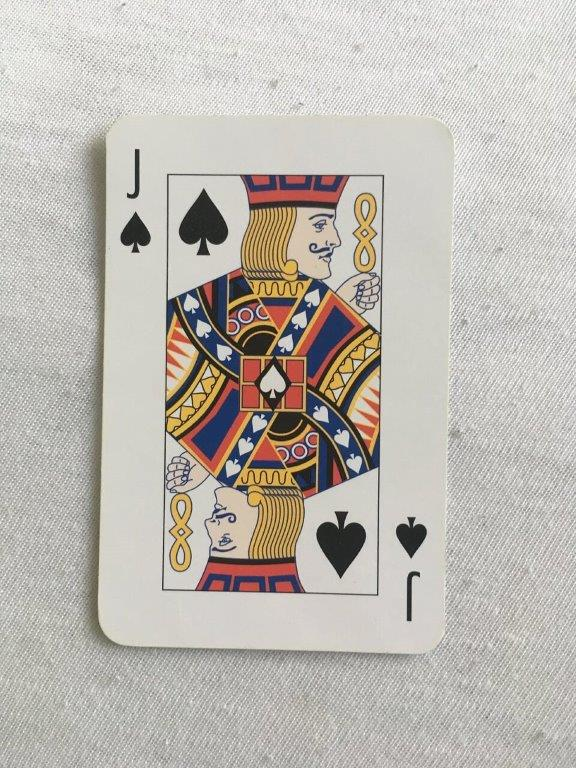JS: (93, 111, 459, 658)
